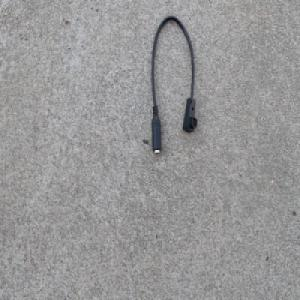Wire: (150, 13, 198, 157)
